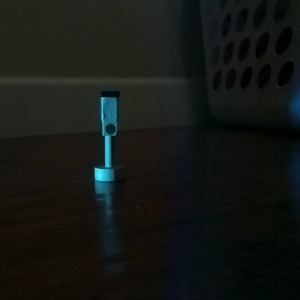traffic light green: (91, 89, 127, 182)
